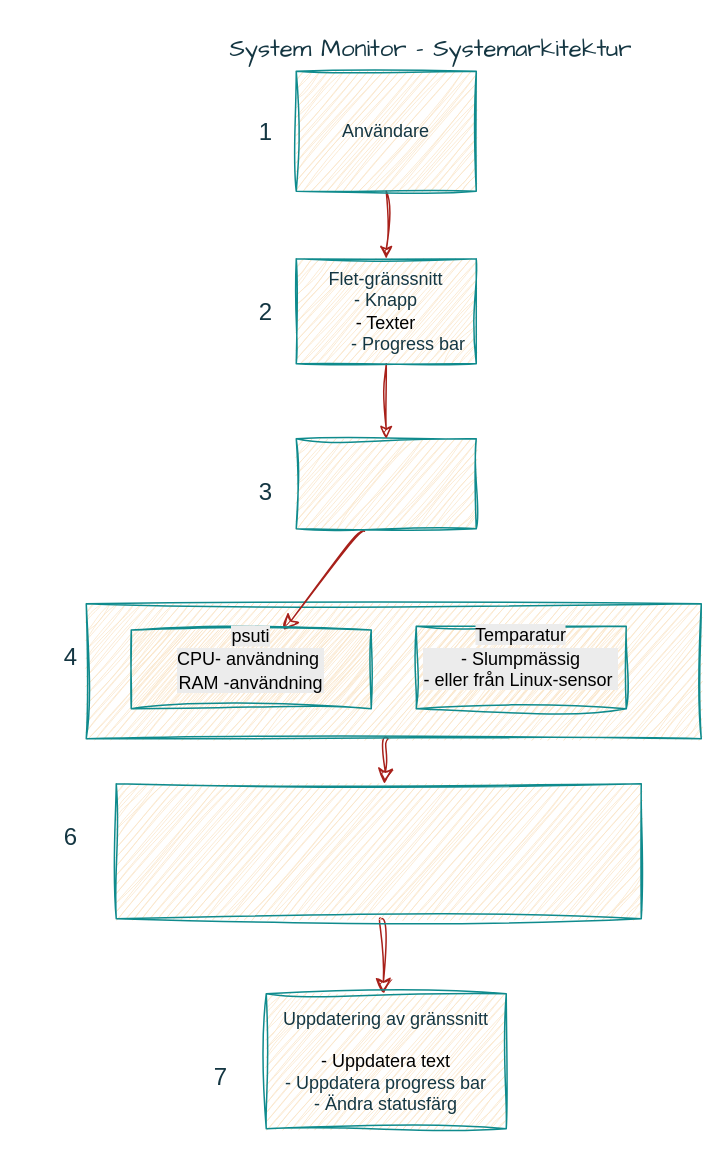
This 728x1155 diagram has some shape labels left out. The centre of each missing label's shape, as x and y in pixels:
Databehandling - statuskontroll - Färglogik - Varningssystem: pixel 378 850
Styrlogik - update_info() - auto_info(): pixel 385 483
